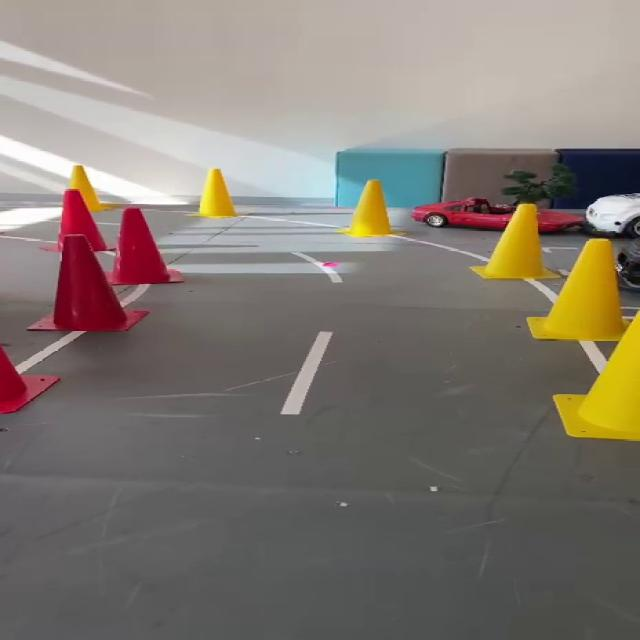Cone-red: (50, 235, 138, 331), (110, 208, 182, 285), (0, 344, 58, 414), (58, 189, 108, 251)
Cones-yellow: (553, 312, 639, 440), (527, 239, 626, 341), (472, 204, 556, 279), (338, 179, 392, 237), (68, 165, 117, 211), (197, 168, 237, 218)
